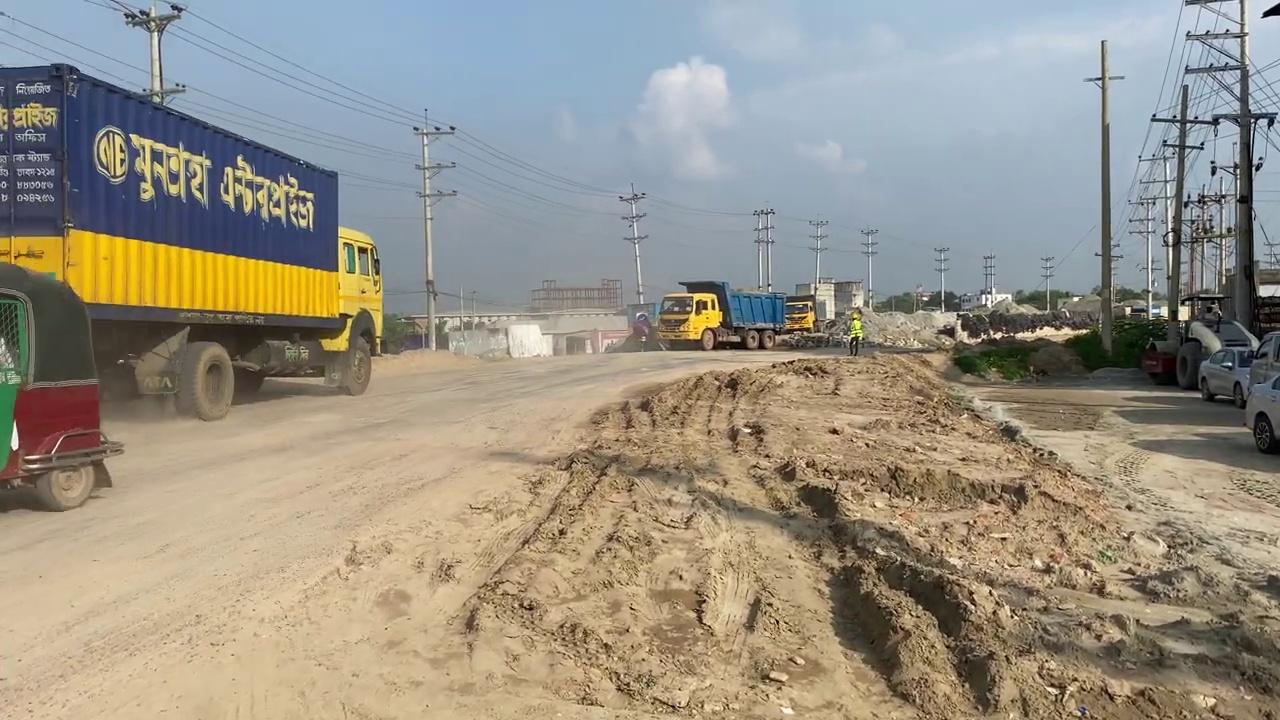Fence: (529, 279, 622, 312)
Muddy road: (525, 341, 1066, 720)
Pole: (1082, 39, 1124, 355), (412, 119, 456, 349), (122, 2, 183, 104), (618, 182, 648, 303), (859, 225, 878, 308)
Tree: (0, 60, 384, 421), (1140, 292, 1259, 389), (654, 279, 788, 350), (780, 299, 831, 348), (784, 301, 817, 333)
